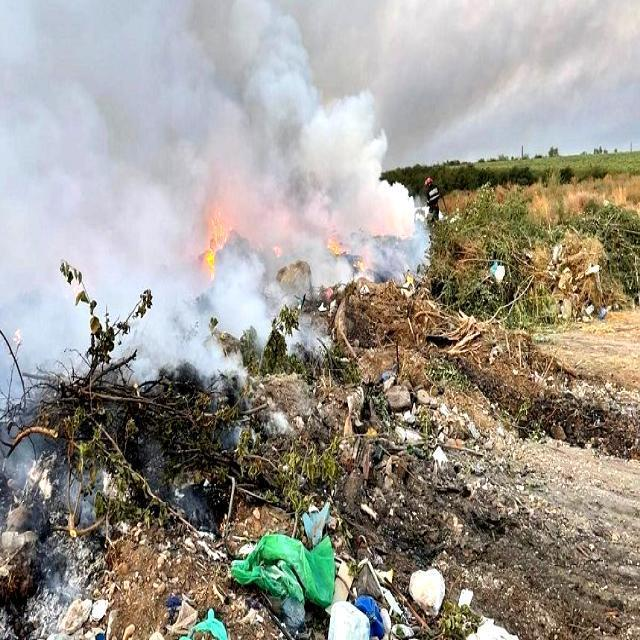Smoke: (2, 0, 424, 390)
